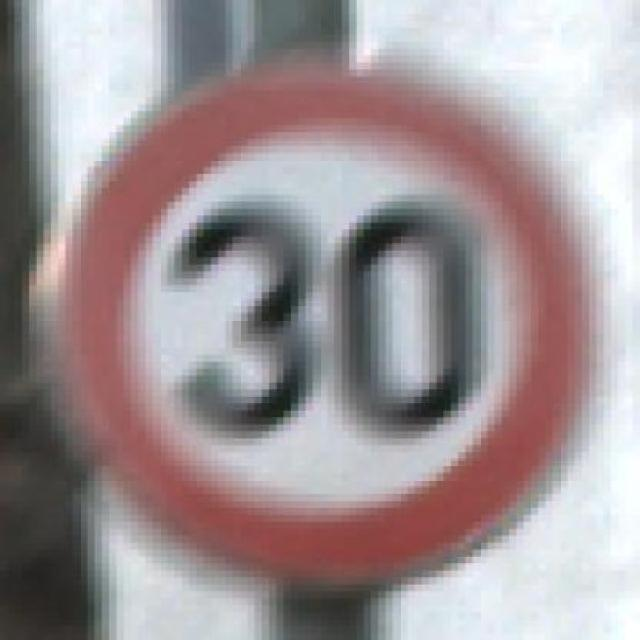Speed Limit 30 KMPh: (29, 34, 618, 598)
